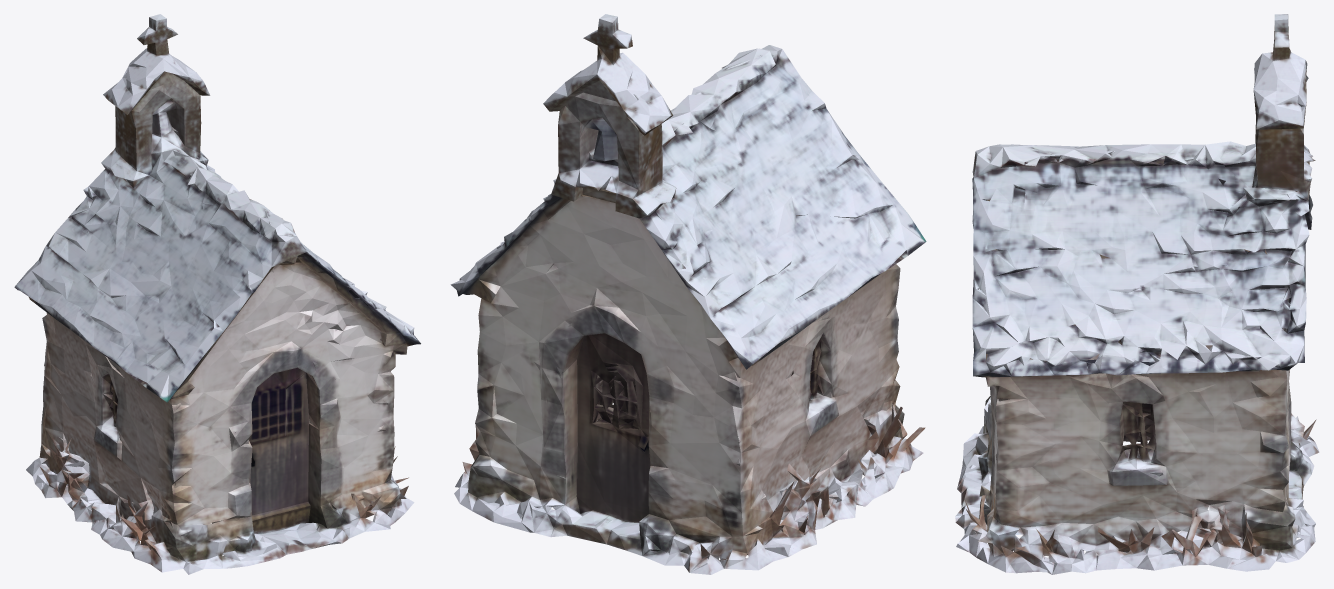
The model's file is chapel_wayside.obj.
3 views of the same model, side by side, from view 1: azimuth 30°, elevation 25°; view 2: azimuth 150°, elevation 25°; view 3: azimuth 270°, elevation 25° (orthographic). The views are drawn at different scales.
Parts seen in each view (by area): view 1: chapel_wayside; view 2: chapel_wayside; view 3: chapel_wayside.
Boxes of the visible parts, x1,y1,x2,y2 form: chapel_wayside: (14,14,420,574); chapel_wayside: (450,14,926,574); chapel_wayside: (955,14,1319,574).
Bounding box in the file's own units: 4.14 × 6 × 4.07.
1 material, 1 textured.
